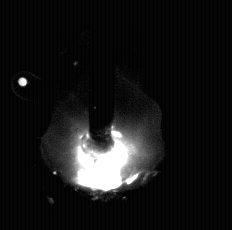arame: (90, 0, 113, 153)
poca: (40, 0, 166, 230)
